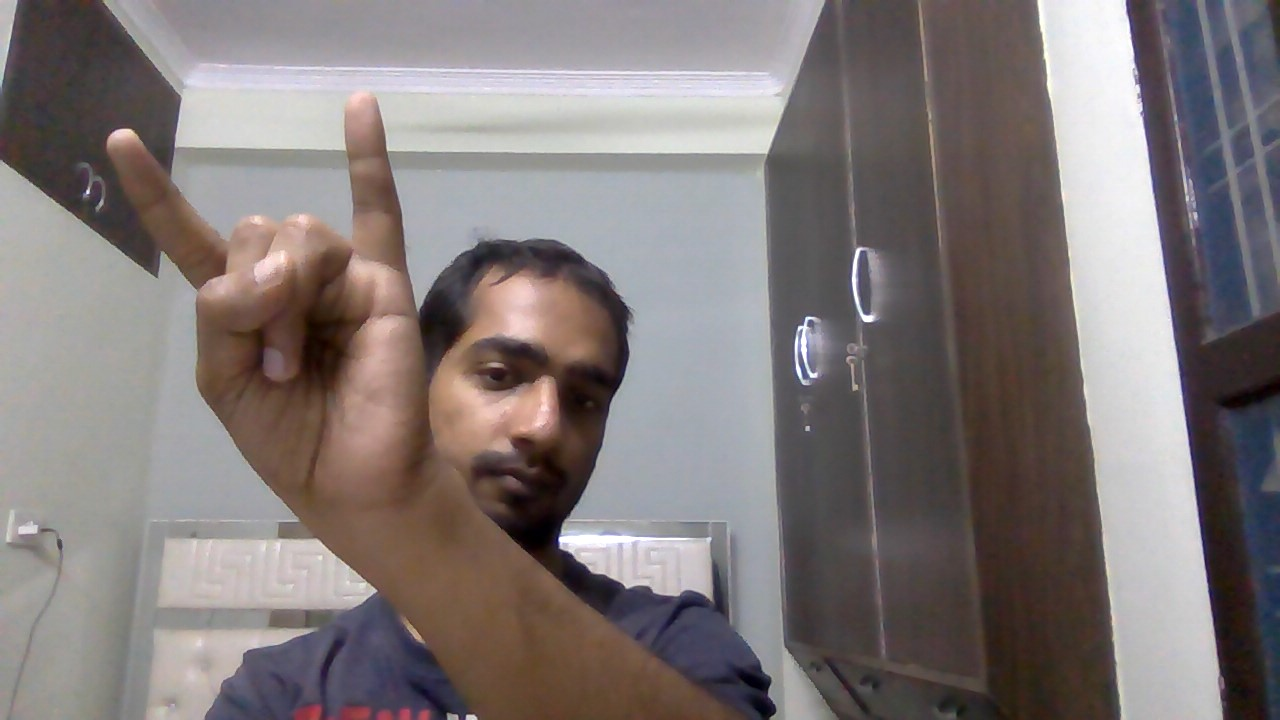Select All: (85, 81, 455, 536)
